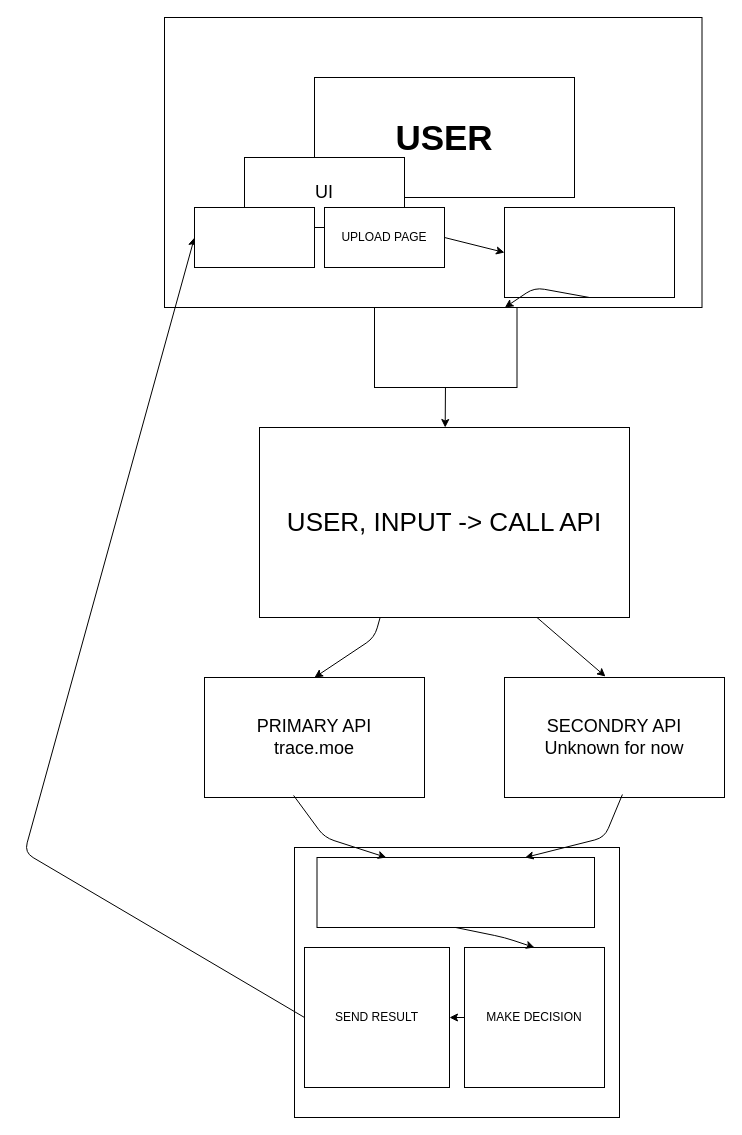
The diagram is 742 pixels wide and 1135 high, and some of its shapes have lost their labels. Each missing label, with the centre of its shape:
CHANGE UPLOAD TYPE SO IT MATCH API REQUEST: [445,347]
MERGE + COMPARE RESULTS: [455,892]
RESULT PAGE: [254,237]
UPLOAD: [589,252]
